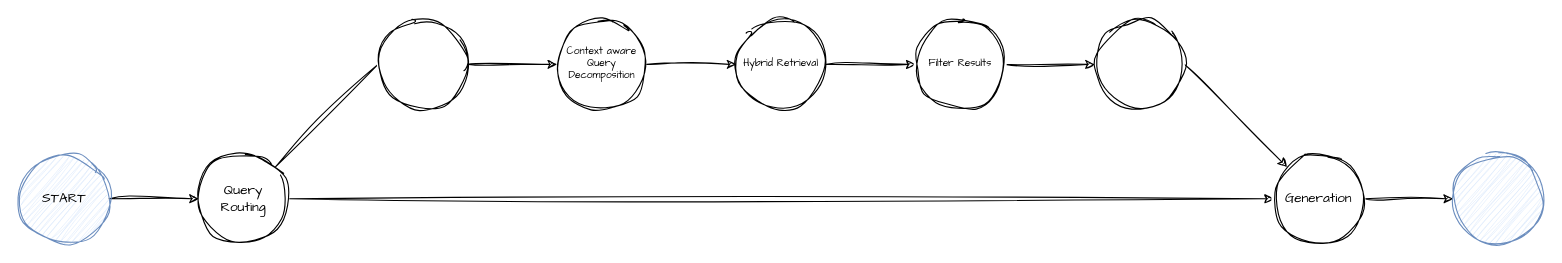
This 1562x263 diagram has some shape labels left out. Here are the shapes that lost their labels. From the top down, the centre of each, then its label:
pixel 422 63: Step-back Prompting
pixel 1139 63: Reranking
pixel 1497 198: END
